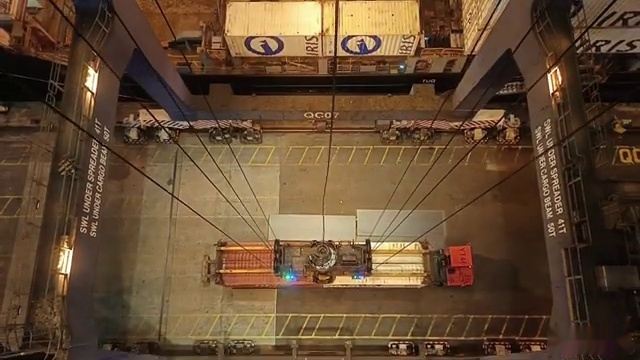container: (207, 231, 436, 296), (222, 2, 424, 65), (208, 1, 436, 34), (209, 0, 433, 29), (221, 2, 425, 29), (239, 3, 439, 11), (227, 0, 420, 4), (216, 0, 430, 3)
guide_mark: (75, 313, 550, 336), (105, 145, 545, 165)
spreader: (207, 236, 436, 294)
target_slot: (198, 234, 448, 295)
